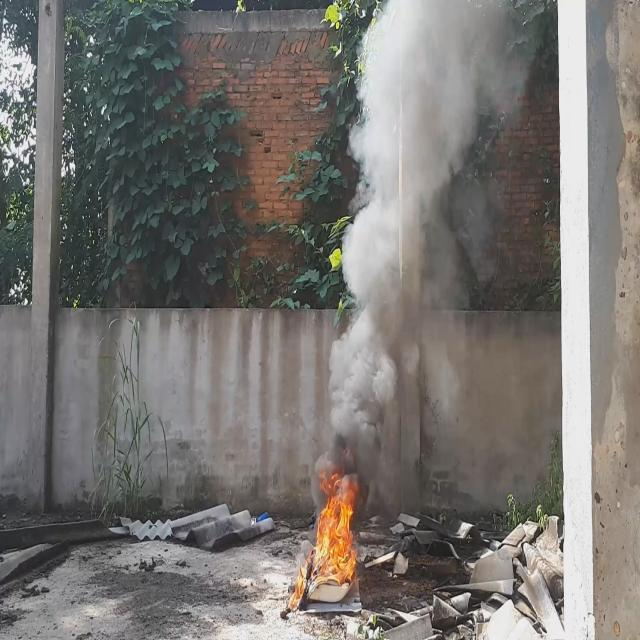Fire: (313, 460, 364, 582)
Smoke: (322, 0, 522, 486)
